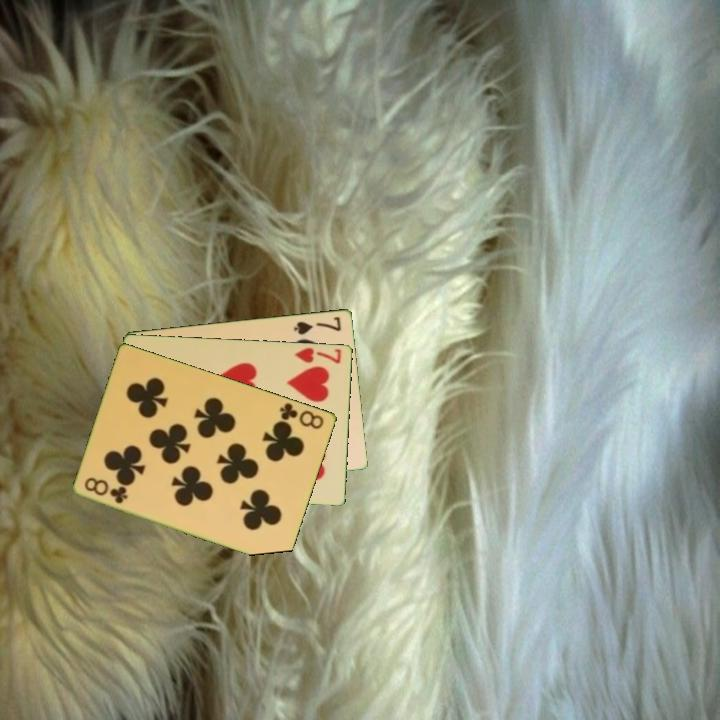7h: (292, 344, 344, 366)
7s: (290, 313, 344, 337)
8c: (277, 399, 327, 432), (81, 474, 131, 507)
